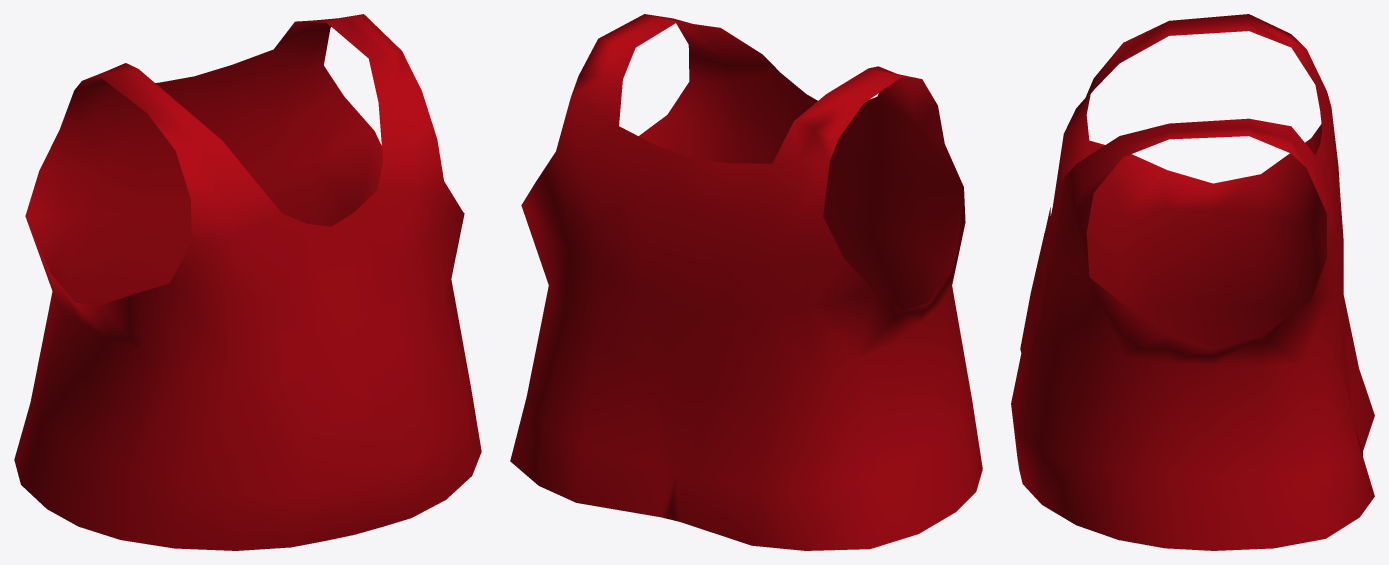
File: CULifeguardT.fbx
3 renders of one model, left to right at view 1: azimuth 30°, elevation 25°; view 2: azimuth 150°, elevation 25°; view 3: azimuth 270°, elevation 25°, orthographic. The views are drawn at different scales.
Visible parts, largest first — view 1: LGTank; view 2: LGTank; view 3: LGTank.
Boxes of the visible parts, x1=… form: LGTank: x1=14, y1=14, x2=481, y2=550; LGTank: x1=510, y1=14, x2=982, y2=550; LGTank: x1=1011, y1=14, x2=1374, y2=550.
Size of the model in its own units: 158 by 148 by 128.
